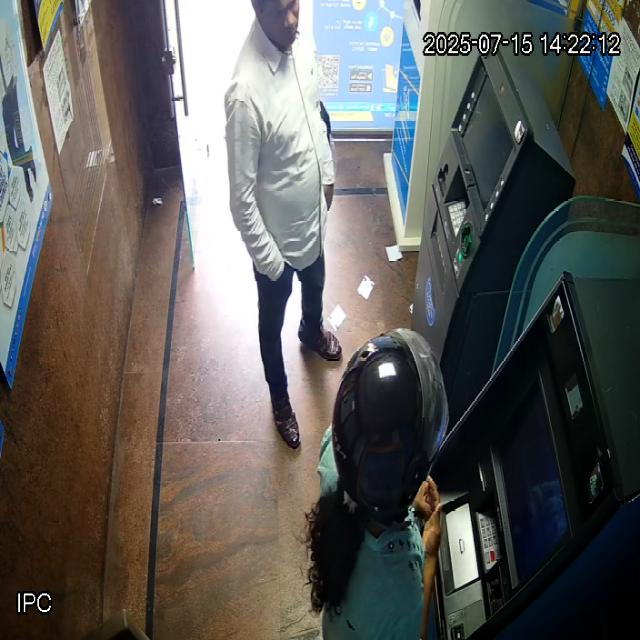helmet: (332, 329, 449, 523)
